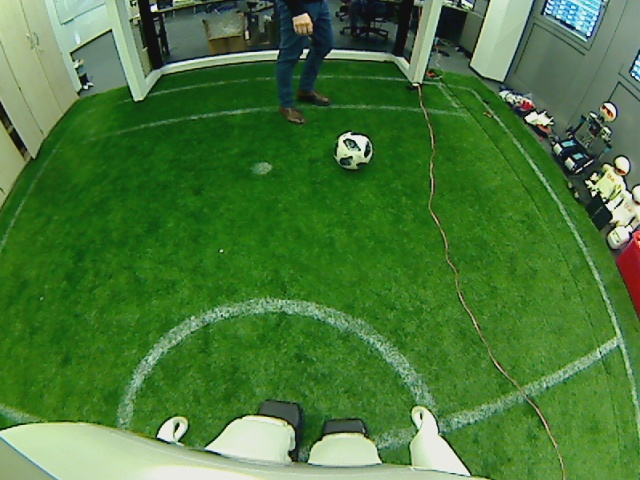ball: (334, 132, 374, 168)
